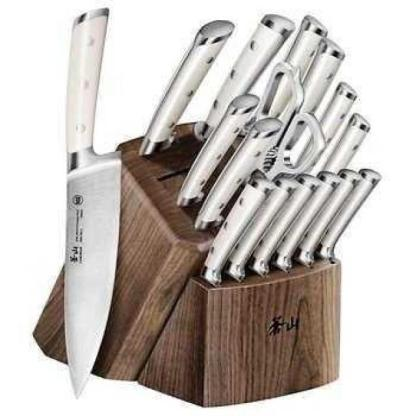Knife: (63, 8, 124, 398)
